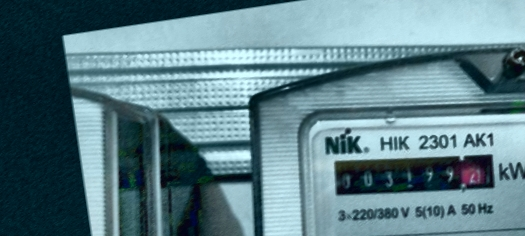0: (337, 169, 353, 190), (360, 167, 374, 187)
1: (402, 162, 413, 182)
3: (381, 168, 393, 188)
6: (466, 170, 478, 187)
9: (442, 164, 455, 183), (422, 163, 434, 182)
screen: (324, 133, 504, 218)
